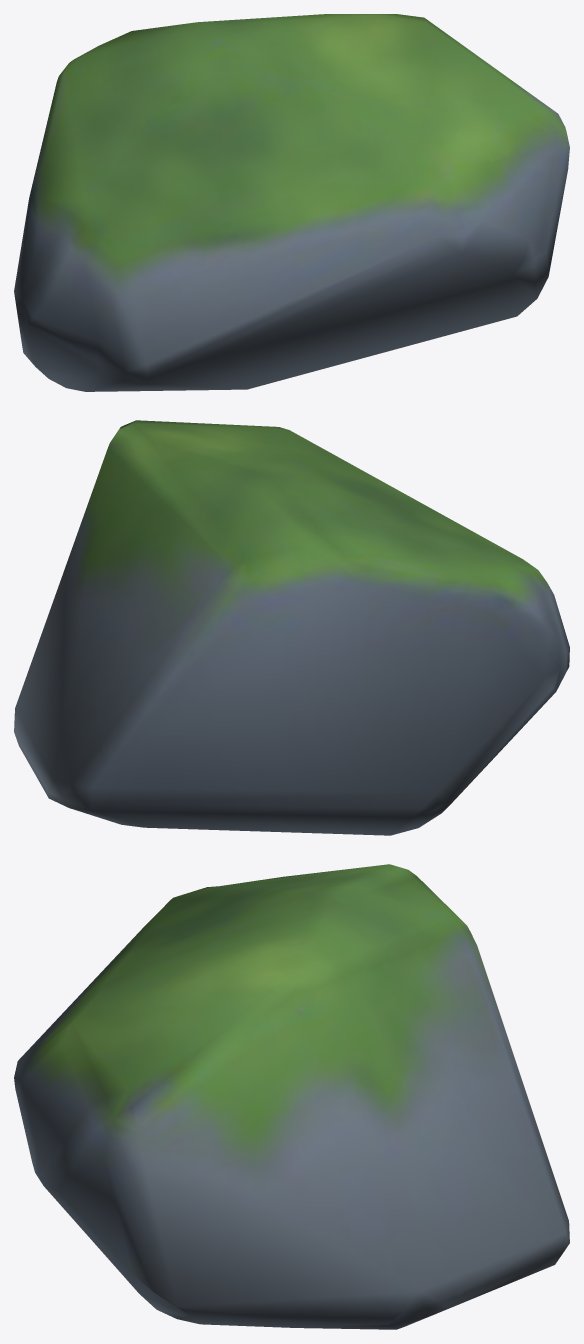
Rendered from rock_a_lod1.glb.
3 views of the same model, one above another, from view 1: azimuth 30°, elevation 25°; view 2: azimuth 150°, elevation 25°; view 3: azimuth 270°, elevation 25° (orthographic). The views are drawn at different scales.
Parts seen in each view (by area): view 1: rock_a_lod1; view 2: rock_a_lod1; view 3: rock_a_lod1.
Part boxes in pixels (<box>): rock_a_lod1: <box>14,14,569,391</box>; rock_a_lod1: <box>14,420,569,835</box>; rock_a_lod1: <box>14,864,569,1329</box>.
Bounding box in the file's own units: 0.5239 × 0.3409 × 0.4673.
Materials: 1 (1 with a texture image).
